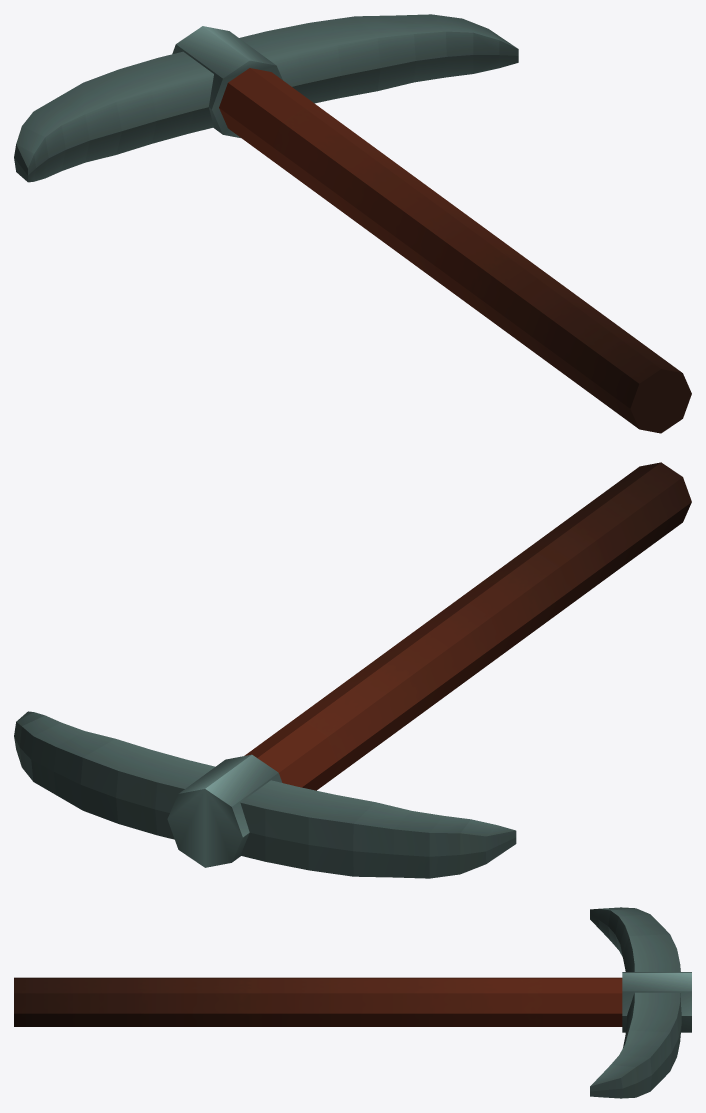
File: FBX_Pickaxe.fbx
3 views of the same model, one above another, from view 1: azimuth 30°, elevation 25°; view 2: azimuth 150°, elevation 25°; view 3: azimuth 270°, elevation 25° (orthographic). The views are drawn at different scales.
Parts seen in each view (by area): view 1: M_Pickaxe; view 2: M_Pickaxe; view 3: M_Pickaxe.
Boxes of the visible parts, x1,y1,x2,y2 form: M_Pickaxe: (14,14,691,433); M_Pickaxe: (14,462,691,878); M_Pickaxe: (14,907,691,1098).
Size of the model in its own units: 0.5619 by 0.0869 by 0.9093.
